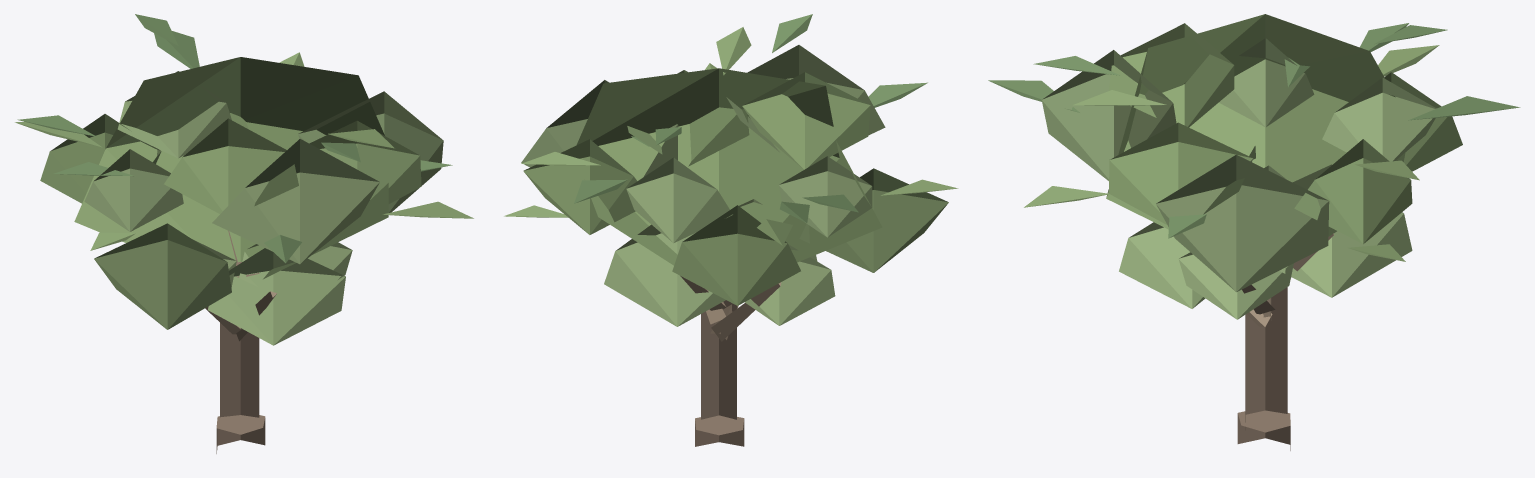
Rendered from shu.wujiaofeng__summer.glb.
The picture shows the model from 3 angles, left to right: view 1: azimuth 30°, elevation 25°; view 2: azimuth 150°, elevation 25°; view 3: azimuth 270°, elevation 25°; orthographic projection. The views are drawn at different scales.
Visible parts, largest first — view 1: shu.wujiaofeng__summer; view 2: shu.wujiaofeng__summer; view 3: shu.wujiaofeng__summer.
Part boxes in pixels (bbox=[...]): shu.wujiaofeng__summer: bbox=[15, 14, 473, 453]; shu.wujiaofeng__summer: bbox=[504, 14, 958, 446]; shu.wujiaofeng__summer: bbox=[988, 14, 1520, 450].
Size of the model in its own units: 11.11 by 10.46 by 12.31.
